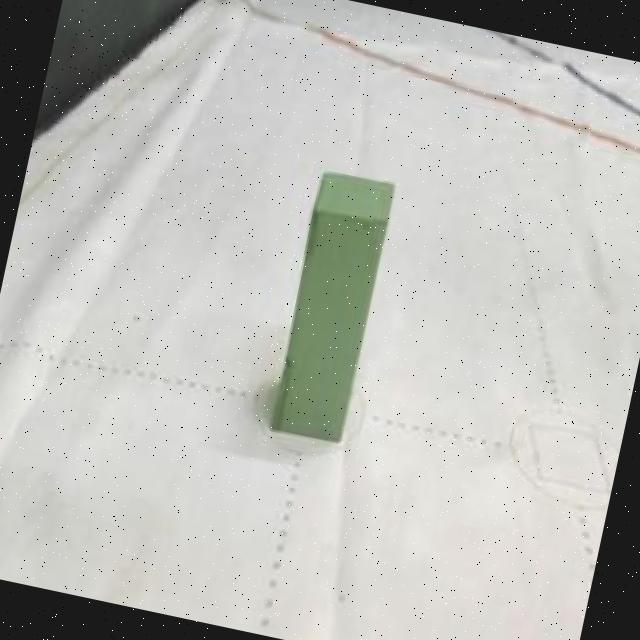greenbox: (262, 161, 400, 450)
